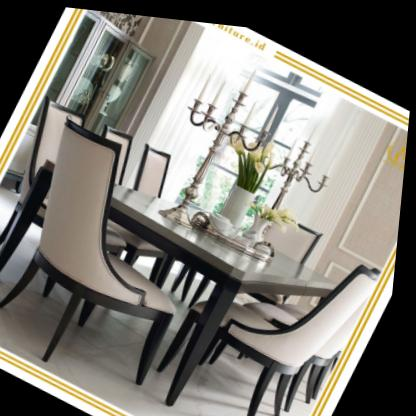Ceramic floor: (0, 227, 265, 416)
Dining Table: (0, 79, 409, 416)
